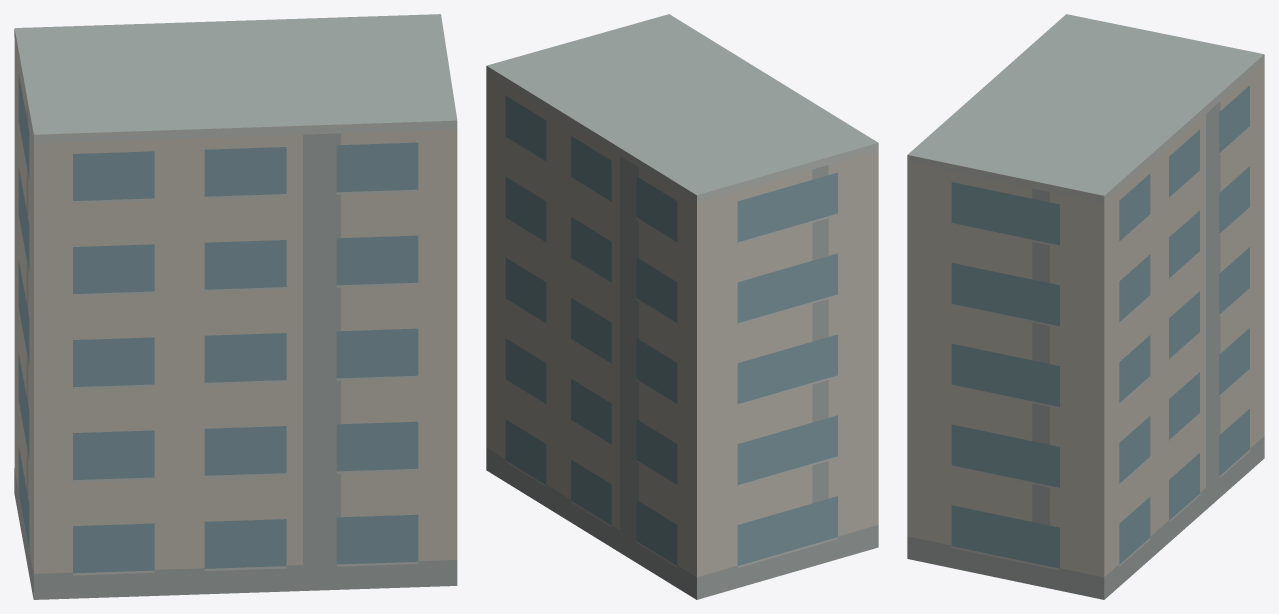
Rendered from survey-upis-32726274.glb.
3 renders of one model, left to right at view 1: azimuth 30°, elevation 25°; view 2: azimuth 150°, elevation 25°; view 3: azimuth 270°, elevation 25°, orthographic. The views are drawn at different scales.
Visible parts, largest first — view 1: survey-upis-32726274.tmp; view 2: survey-upis-32726274.tmp; view 3: survey-upis-32726274.tmp.
Boxes of the visible parts, x1,y1,x2,y2 form: survey-upis-32726274.tmp: (14,14,457,599); survey-upis-32726274.tmp: (486,14,878,599); survey-upis-32726274.tmp: (907,14,1264,599).
Bounding box in the file's own units: 12.36 × 12.8 × 10.26.
